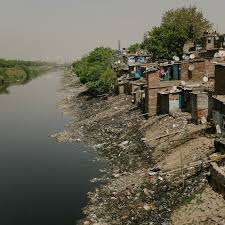urbano: (119, 50, 224, 161)
